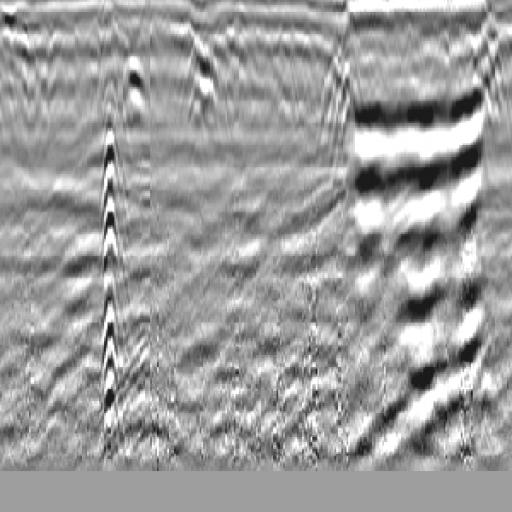non-metallic: (168, 35, 228, 128), (113, 48, 163, 129)
